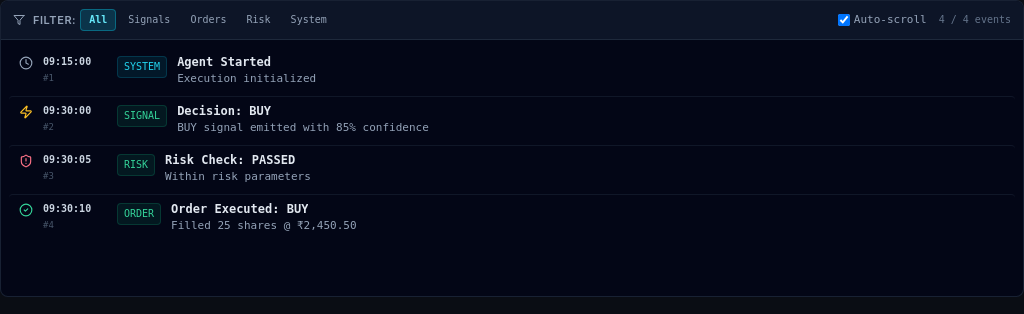
Phase 10D: Bottom Terminal Workspace & Components › ActivityFeed Component › renders chronological items and filters by category correctly
Expected: the number of elements with test id "activity-item" is 4, [19,55,316,85]; [9,96,1015,141]; [9,145,1015,190]; [9,194,1015,239]
Expected: the text "Decision: BUY" is shown, [177,103,271,119]
// Filter by Signals only
Click the button with test id "activity-filter-signal" at (149, 20), box [120,10,178,30]
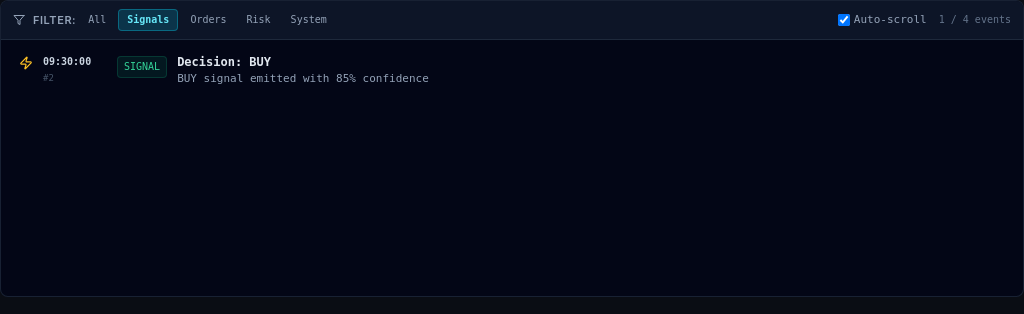
Expected: the text "Decision: BUY" is shown, [177,54,271,70]
Result: the number of elements with test id "activity-item" is 1 at [19,55,429,85]
// Filter by Orders only
Click the button with test id "activity-filter-order" at (208, 20), box [182,10,234,30]
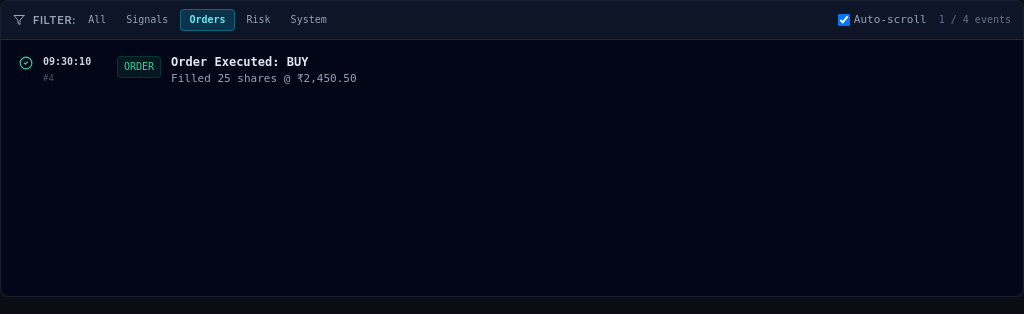
Result: the number of elements with test id "activity-item" is 1 at [19,55,356,85]
Result: the text "Order Executed: BUY" is shown at [171,54,308,70]
// Return to All
Click the button with test id "activity-filter-all" at (97, 20), box [80,10,114,30]
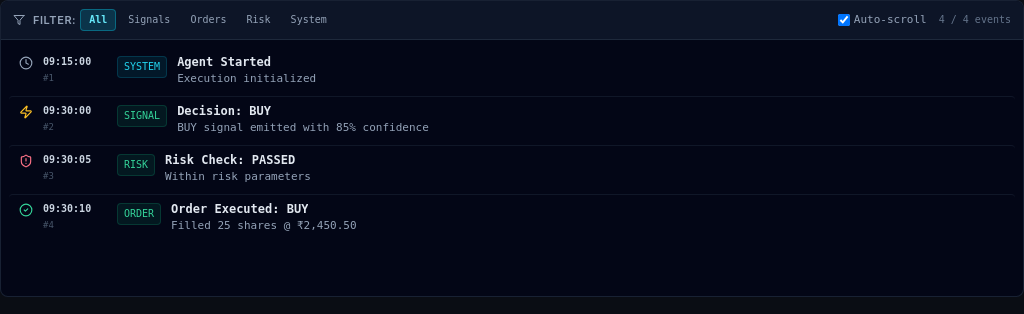
Result: the number of elements with test id "activity-item" is 4 at [19,55,316,85]; [9,96,1015,141]; [9,145,1015,190]; [9,194,1015,239]
